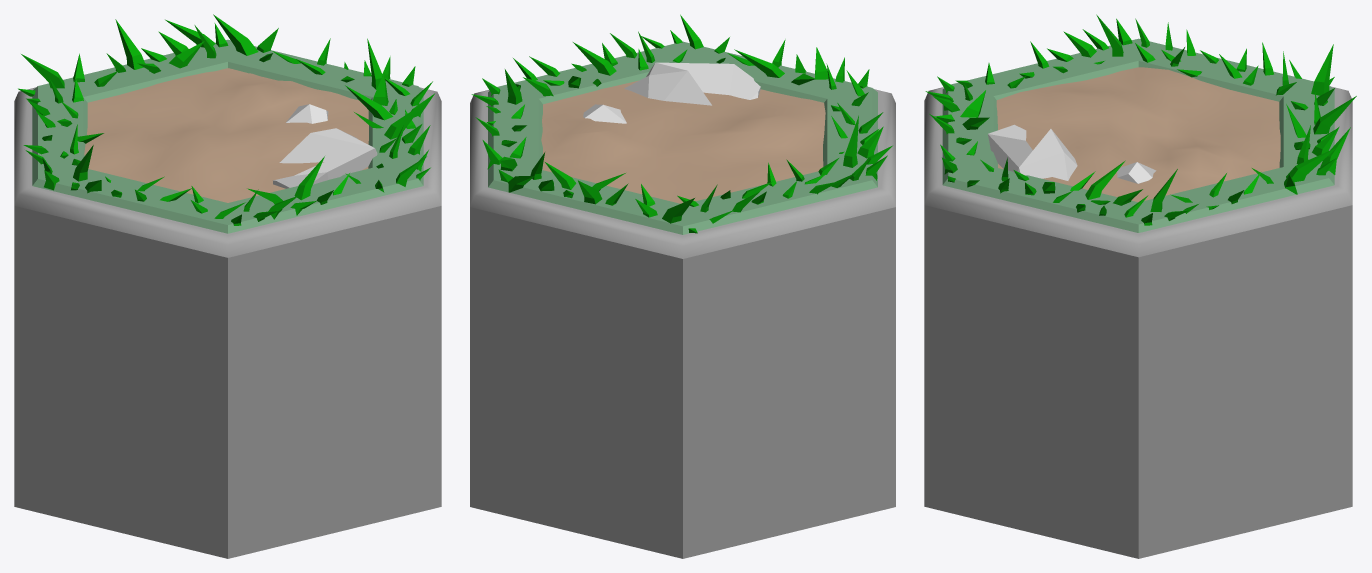
File: presentation_tile1.fbx
The picture shows the model from 3 angles, left to right: view 1: azimuth 30°, elevation 25°; view 2: azimuth 150°, elevation 25°; view 3: azimuth 270°, elevation 25°; orthographic projection.
Parts seen in each view (by area): view 1: presentation_tile1; view 2: presentation_tile1; view 3: presentation_tile1.
Part boxes in pixels (bbox=[...]): presentation_tile1: bbox=[14, 14, 441, 558]; presentation_tile1: bbox=[470, 14, 895, 558]; presentation_tile1: bbox=[924, 14, 1356, 558].
Size of the model in its own units: 3.88 by 3.15 by 3.4.
